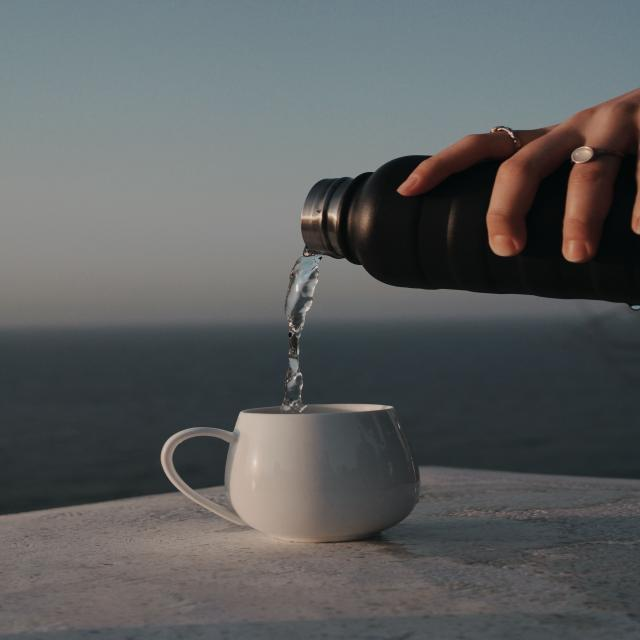Bottle: (302, 156, 639, 305)
